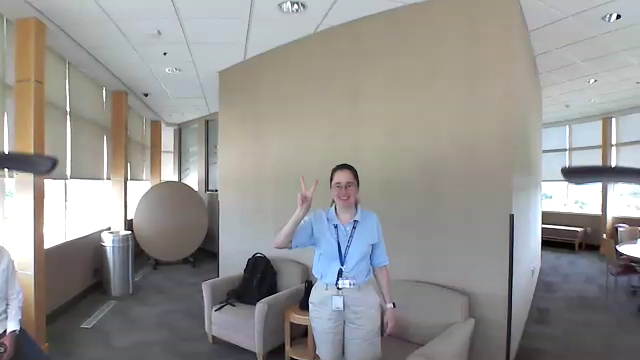peace: (293, 171, 321, 223)
